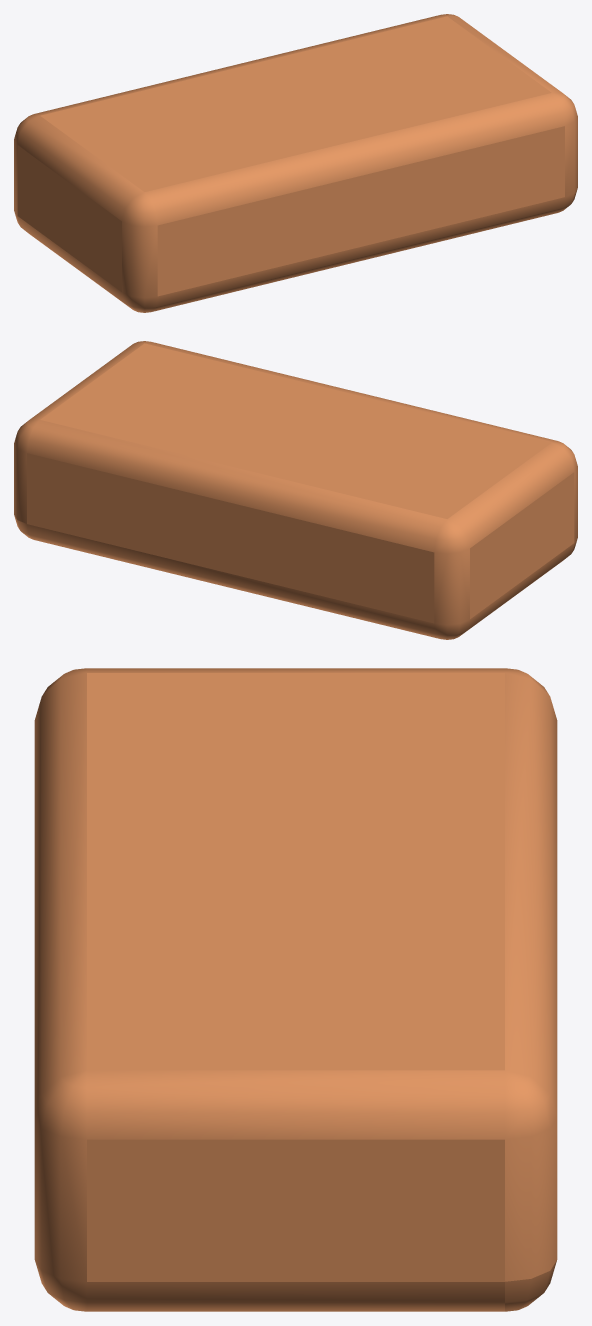
Rendered from blockRoundedLowLong.obj.
3 views of the same model, one above another, from view 1: azimuth 30°, elevation 25°; view 2: azimuth 150°, elevation 25°; view 3: azimuth 270°, elevation 25° (orthographic). The views are drawn at different scales.
Visible parts, largest first — view 1: blockRoundedLowLong; view 2: blockRoundedLowLong; view 3: blockRoundedLowLong.
Boxes of the visible parts, box(x1,y1,x2,y2) form: blockRoundedLowLong: box(14, 14, 577, 312); blockRoundedLowLong: box(14, 341, 577, 639); blockRoundedLowLong: box(34, 668, 557, 1311).
Bounding box in the file's own units: 2 × 0.5 × 1.
